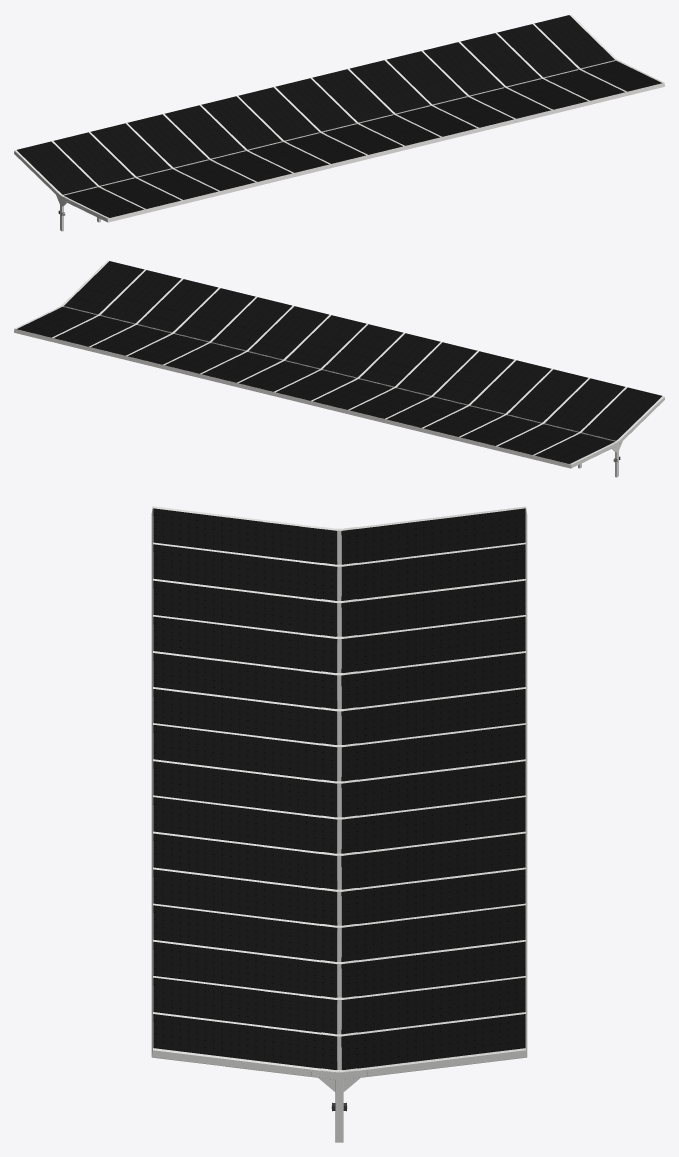
The model's file is Pac_30.glb.
3 views of the same model, one above another, from view 1: azimuth 30°, elevation 25°; view 2: azimuth 150°, elevation 25°; view 3: azimuth 270°, elevation 25° (orthographic). The views are drawn at different scales.
Parts seen in each view (by area): view 1: Left.077, Left.065, Left.260, Left.024, Left.275, Left.036, Left.012, Left.245, Left.053, Left.044, Left.003, Left.236 (+9 smaller); view 2: Left.260, Left.024, Left.275, Left.065, Left.077, Left.036, Left.012, Left.053, Left.245, Left.236, Left.003, Left.044 (+9 smaller); view 3: Left.275, Left.260, Left.036, Left.077, Left.065, Left.024, Left.245, Left.012, Left.053, Left.240, Left.020, Left.073 (+9 smaller).
Boxes of the visible parts, x1,y1,x2,y2 form: Left.077: [17, 132, 180, 217]; Left.065: [91, 114, 255, 199]; Left.260: [461, 24, 624, 109]; Left.024: [276, 69, 439, 154]; Left.275: [387, 42, 550, 127]; Left.036: [201, 87, 365, 172]; Left.012: [350, 60, 476, 136]; Left.245: [534, 15, 661, 91]; Left.053: [165, 105, 291, 181]; Left.044: [14, 105, 294, 222]; Left.003: [209, 60, 479, 176]; Left.236: [389, 16, 664, 131]; Left.260: [54, 270, 217, 355]; Left.024: [239, 315, 402, 400]; Left.275: [128, 288, 291, 373]; Left.065: [424, 360, 587, 445]; Left.077: [498, 378, 661, 463]; Left.036: [313, 333, 477, 418]; Left.012: [202, 306, 328, 382]; Left.053: [387, 351, 513, 427]; Left.245: [17, 261, 144, 337]; Left.236: [14, 261, 290, 378]; Left.003: [199, 307, 469, 423]; Left.044: [384, 351, 664, 468]; Left.275: [153, 869, 525, 961]; Left.260: [153, 941, 525, 1034]; Left.036: [153, 689, 525, 781]; Left.077: [153, 508, 525, 600]; Left.065: [153, 580, 525, 672]; Left.024: [153, 761, 525, 853]; Left.245: [153, 1014, 525, 1069]; Left.012: [153, 833, 525, 889]; Left.053: [153, 653, 525, 708]; Left.240: [152, 1012, 526, 1079]; Left.020: [153, 759, 525, 817]; Left.073: [153, 506, 525, 564].
Size of the model in its own units: 39.67 by 3.15 by 11.57.
12 materials, 10 textured.
